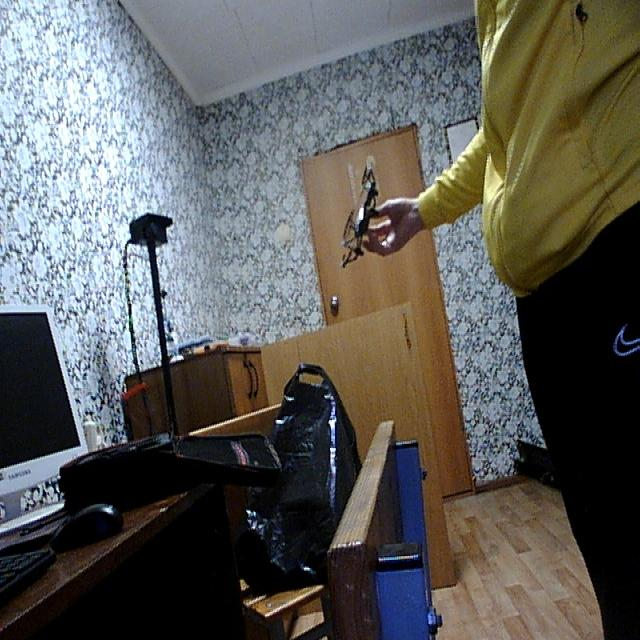drone: (330, 158, 386, 277)
